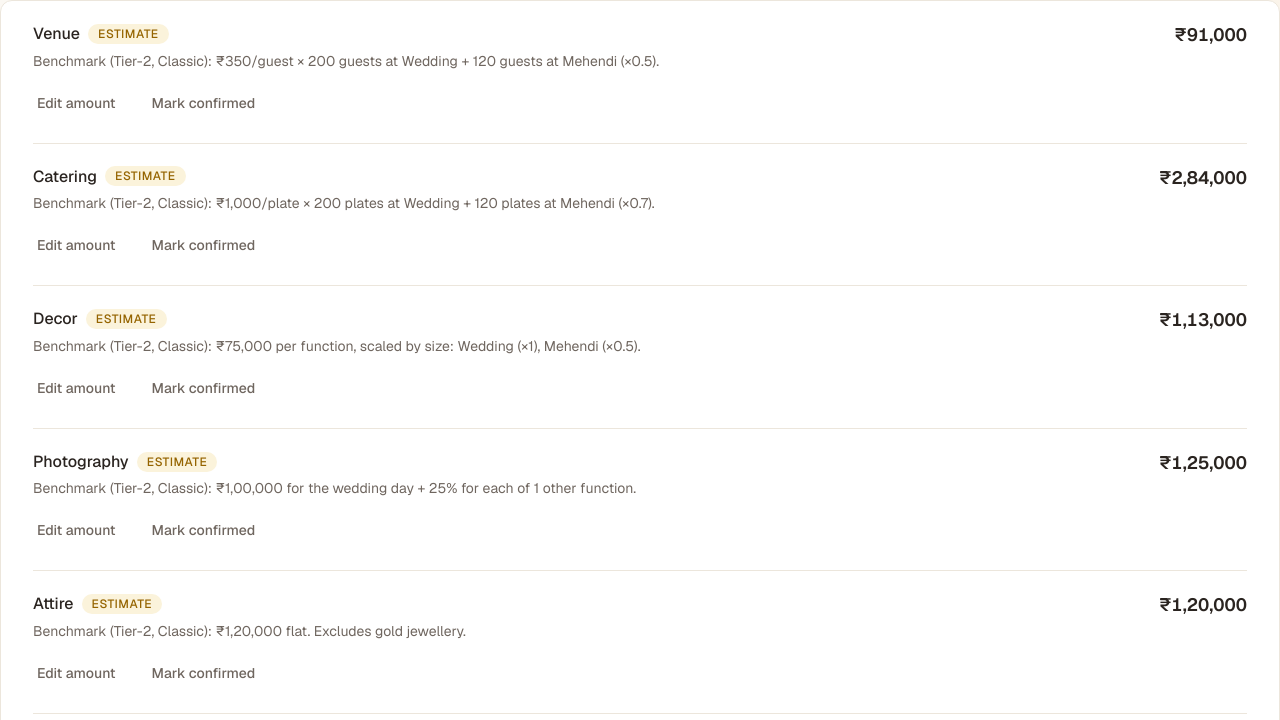
BudgetTab › toggles Mark confirmed, announcing the state through aria-pressed
Click the button "Mark confirmed" below "Venue" at (203, 103), box [136, 83, 271, 123]
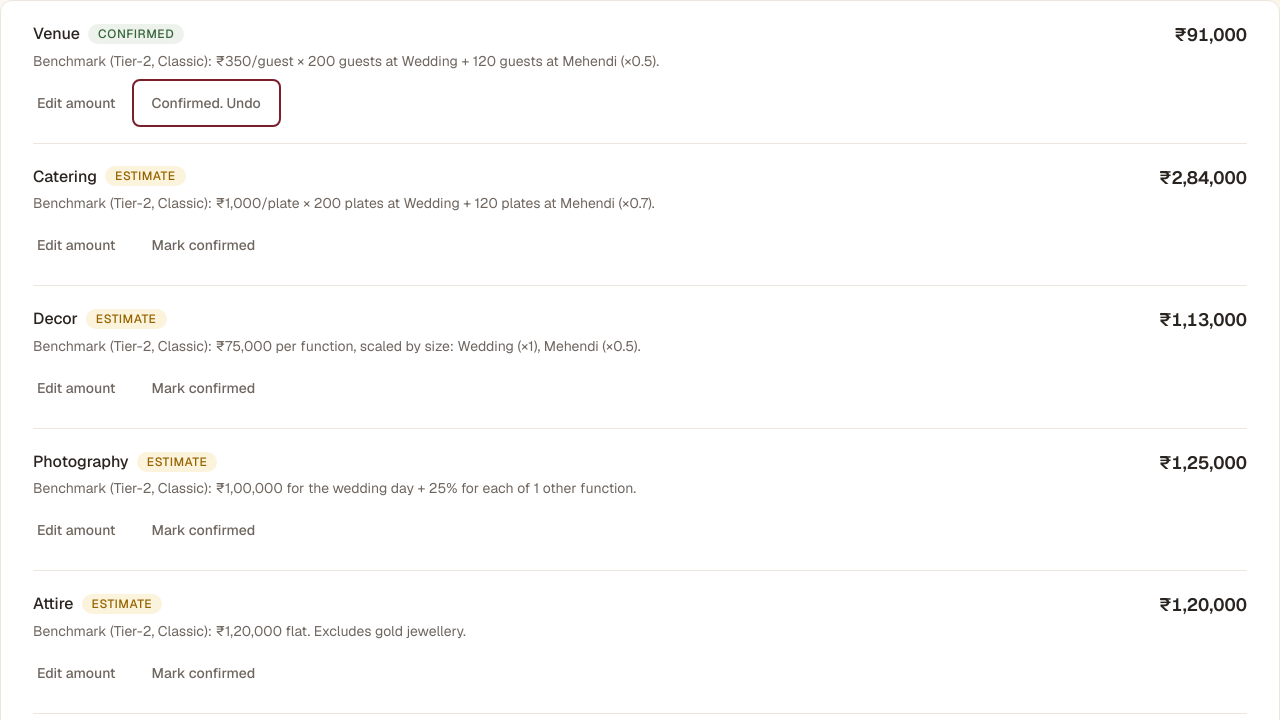
Now the text "Confirmed" is shown, box [88, 24, 184, 44]
Click the button "Confirmed. Undo" at (206, 103), box [136, 83, 277, 123]
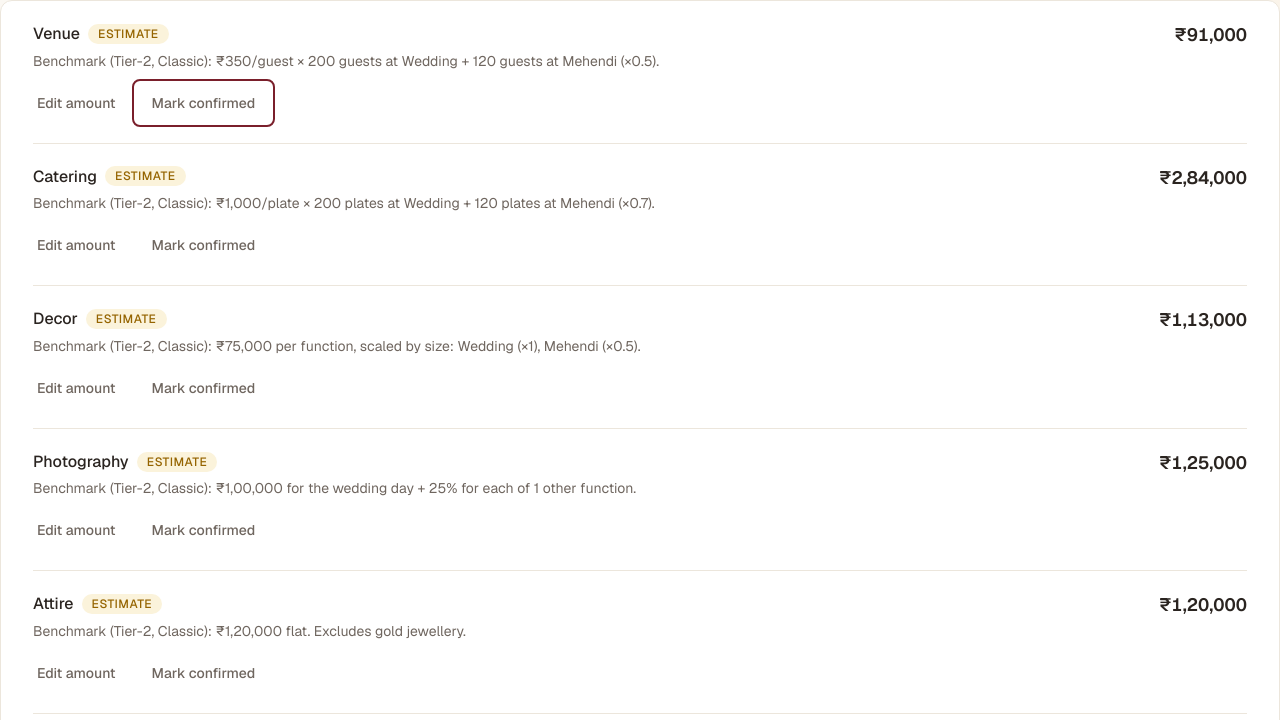
Now the text "Estimate" next to "Venue" is shown, box [98, 26, 159, 42]
